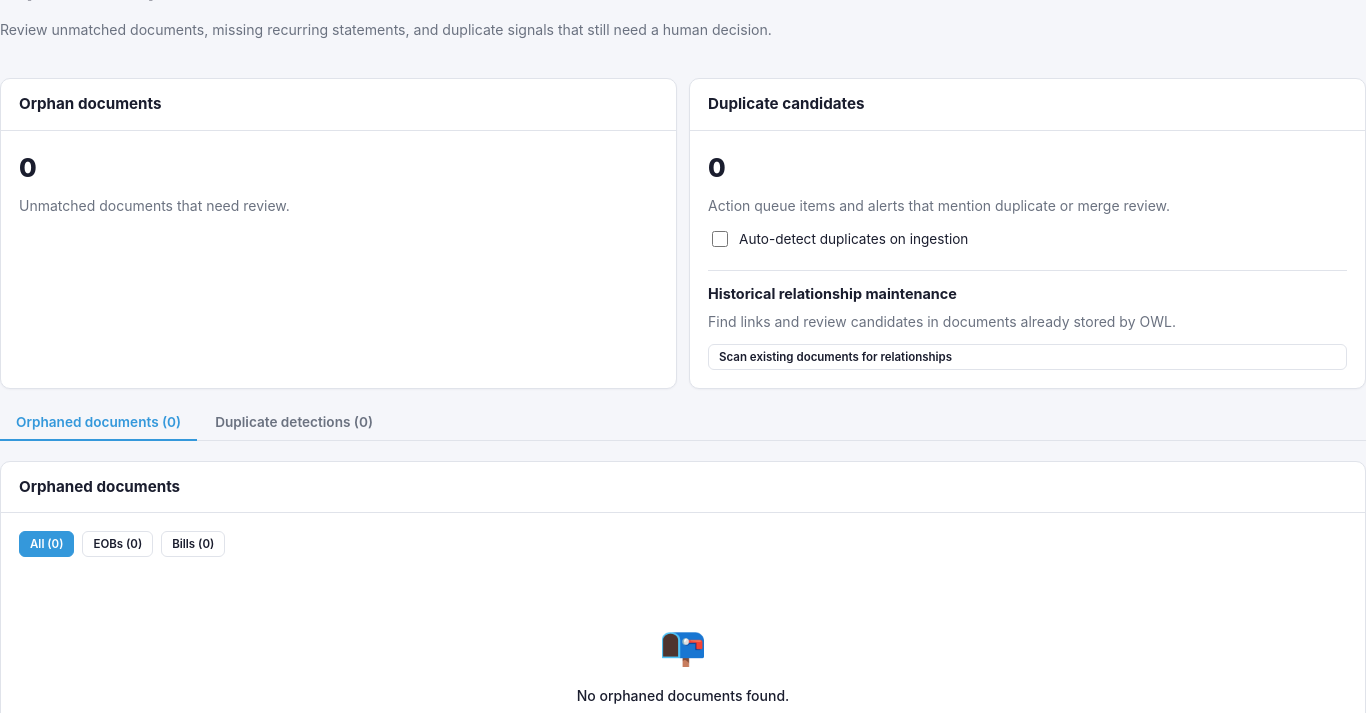
Test: OrphansDupes relationship maintenance › reveals a non-mutating preview before starting the scan
The width and height of the screenshot is (1366, 713).
Click the button "Scan existing documents for relationships" at (836, 357), box x1=708 y1=344 x2=1347 y2=370
(page scrolled)
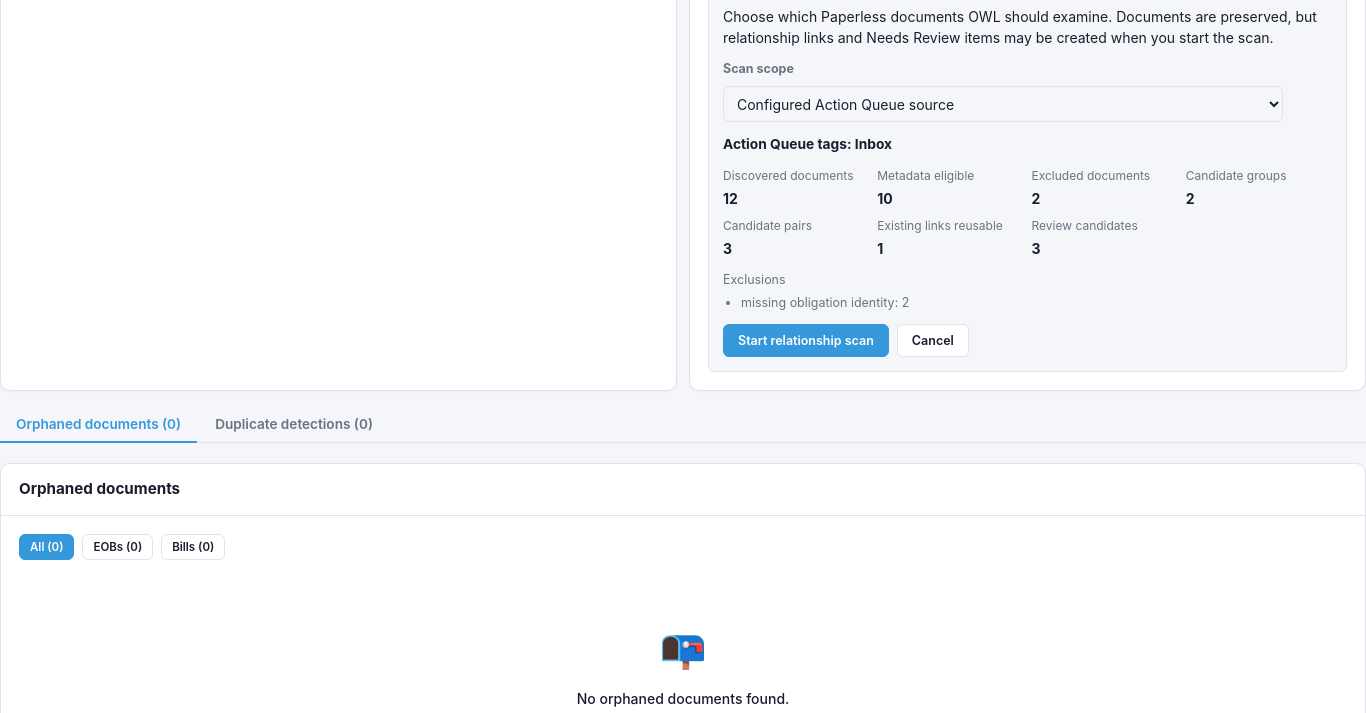
Now the text "Documents are preserved" is shown, box x1=723 y1=8 x2=1317 y2=46
Now the text "Action Queue tags: Inbox" is shown, box x1=723 y1=136 x2=892 y2=152
Now the text "Discovered documents" is shown, box x1=723 y1=167 x2=869 y2=185
Click the button "Start relationship scan" at (806, 341), box x1=723 y1=324 x2=889 y2=358
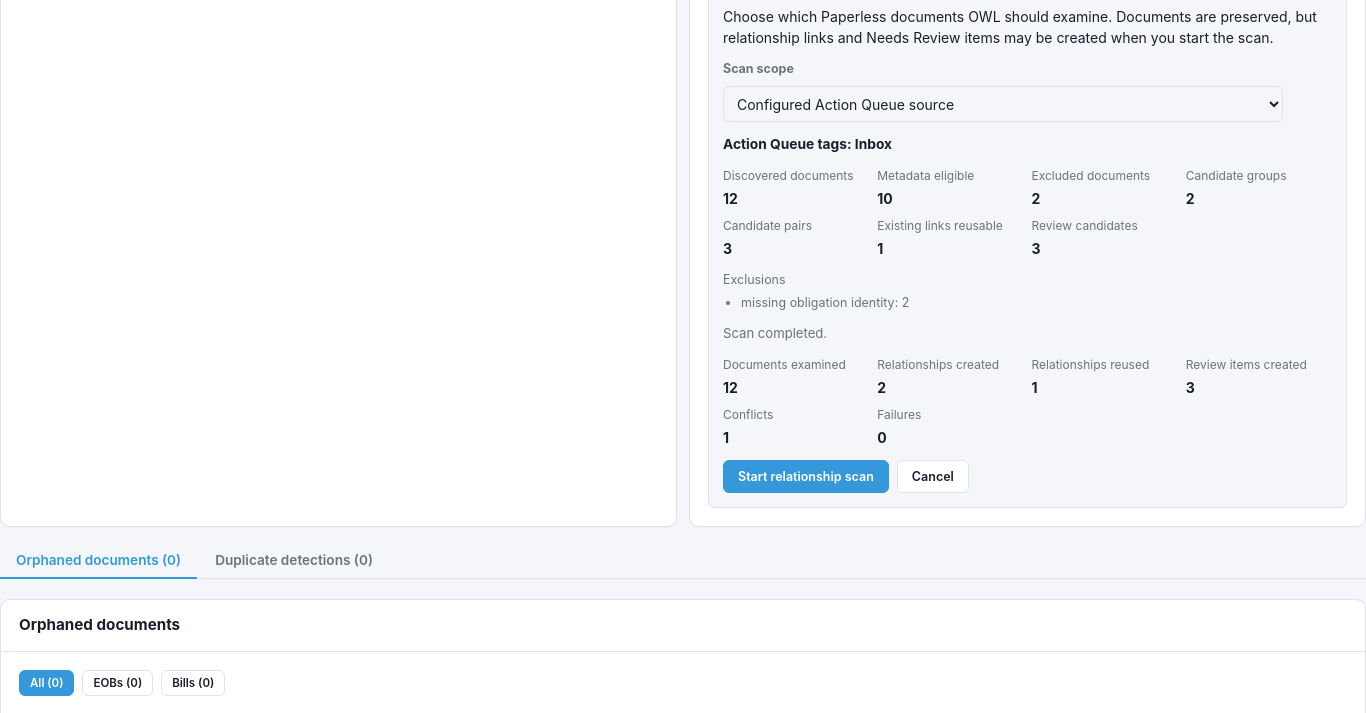
Now the text "Scan completed." is shown, box x1=723 y1=326 x2=827 y2=342
Now the text "Review items created" is shown, box x1=1186 y1=357 x2=1307 y2=372
Now the text "Conflicts" is shown, box x1=723 y1=407 x2=773 y2=422
